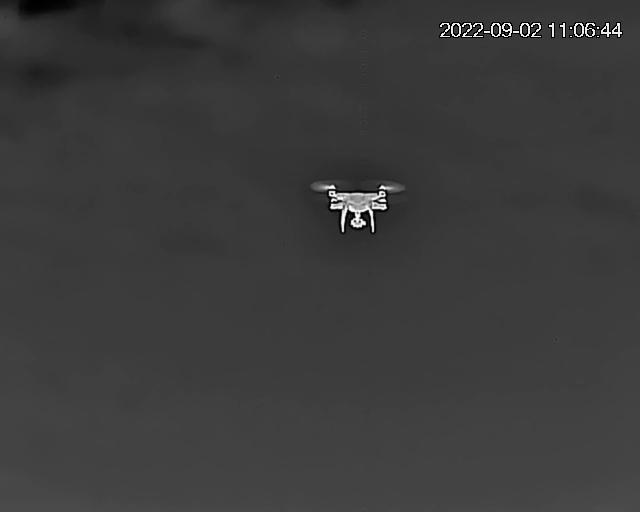DJI-Phantom: (318, 181, 405, 230)
